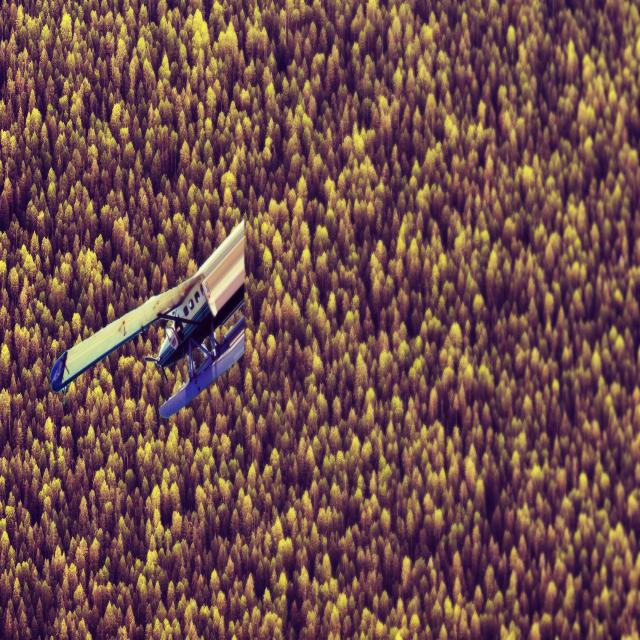airplane: (49, 216, 247, 420)
